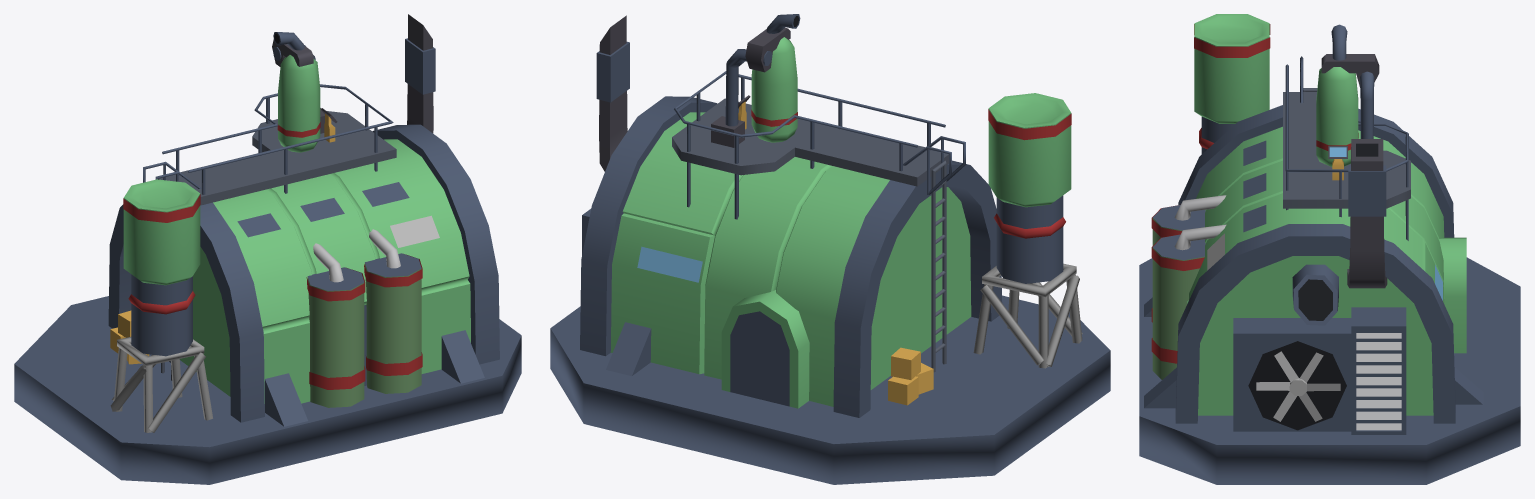
The model's file is Building3.fbx.
3 views of the same model, side by side, from view 1: azimuth 30°, elevation 25°; view 2: azimuth 150°, elevation 25°; view 3: azimuth 270°, elevation 25° (orthographic). The views are drawn at different scales.
Visible parts, largest first — view 1: wBox.027; view 2: wBox.027; view 3: wBox.027.
Part boxes in pixels (x1,y1,x2,y2): wBox.027: [14, 14, 521, 484]; wBox.027: [550, 14, 1110, 484]; wBox.027: [1139, 14, 1520, 484].
Bounding box in the file's own units: 233 × 187 × 178.
